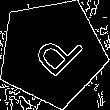P_SW: (21, 21, 83, 84)
